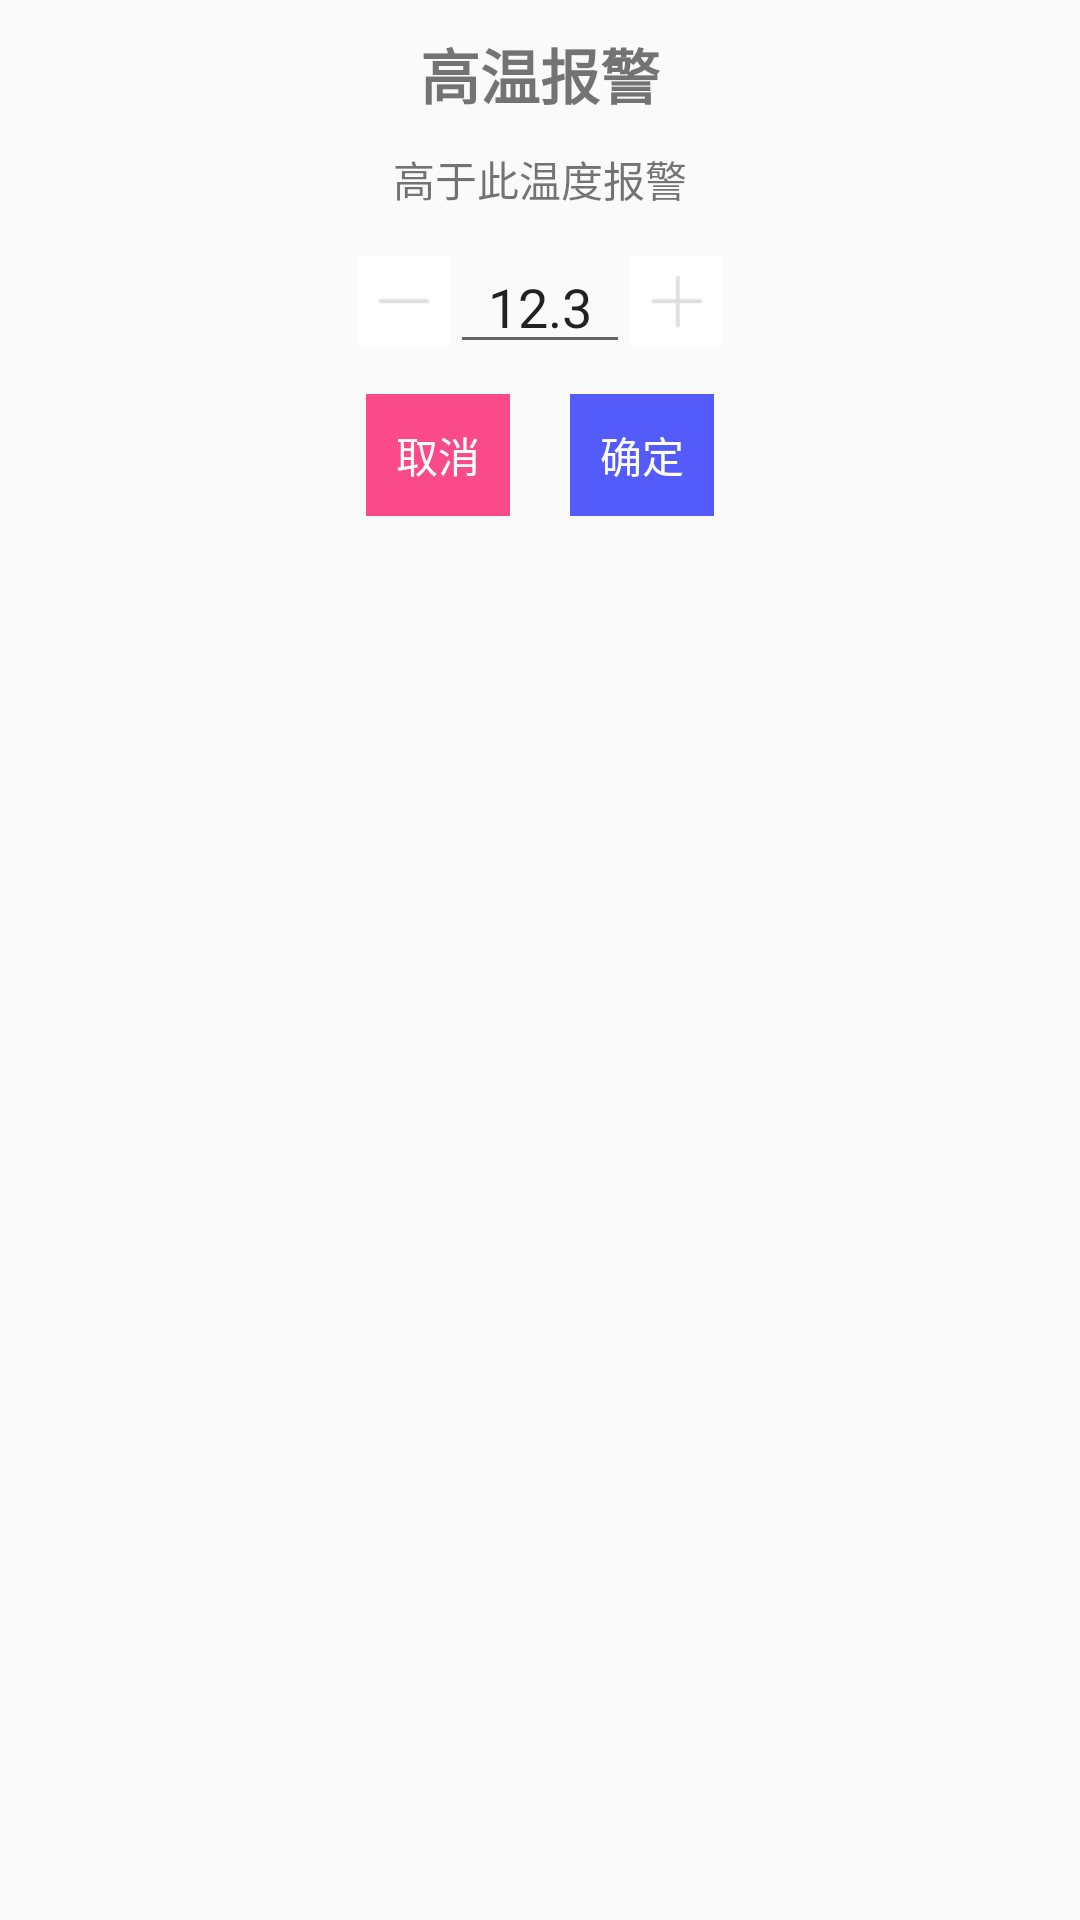

Locate icon controls on the screen. Image size 1080x1920, boxes as (x1, y1, x2, y2).
discovery shopping add: (653, 276, 701, 327)
